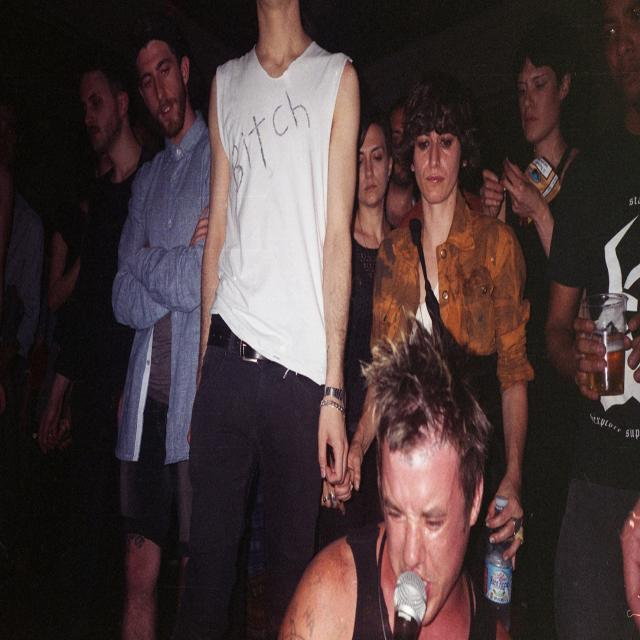body: (177, 0, 364, 639), (332, 71, 536, 574), (277, 310, 514, 640), (30, 49, 157, 638), (0, 162, 147, 640), (535, 0, 639, 639), (109, 24, 214, 640), (478, 38, 587, 378), (323, 109, 396, 551), (384, 96, 416, 234), (618, 483, 640, 629)
